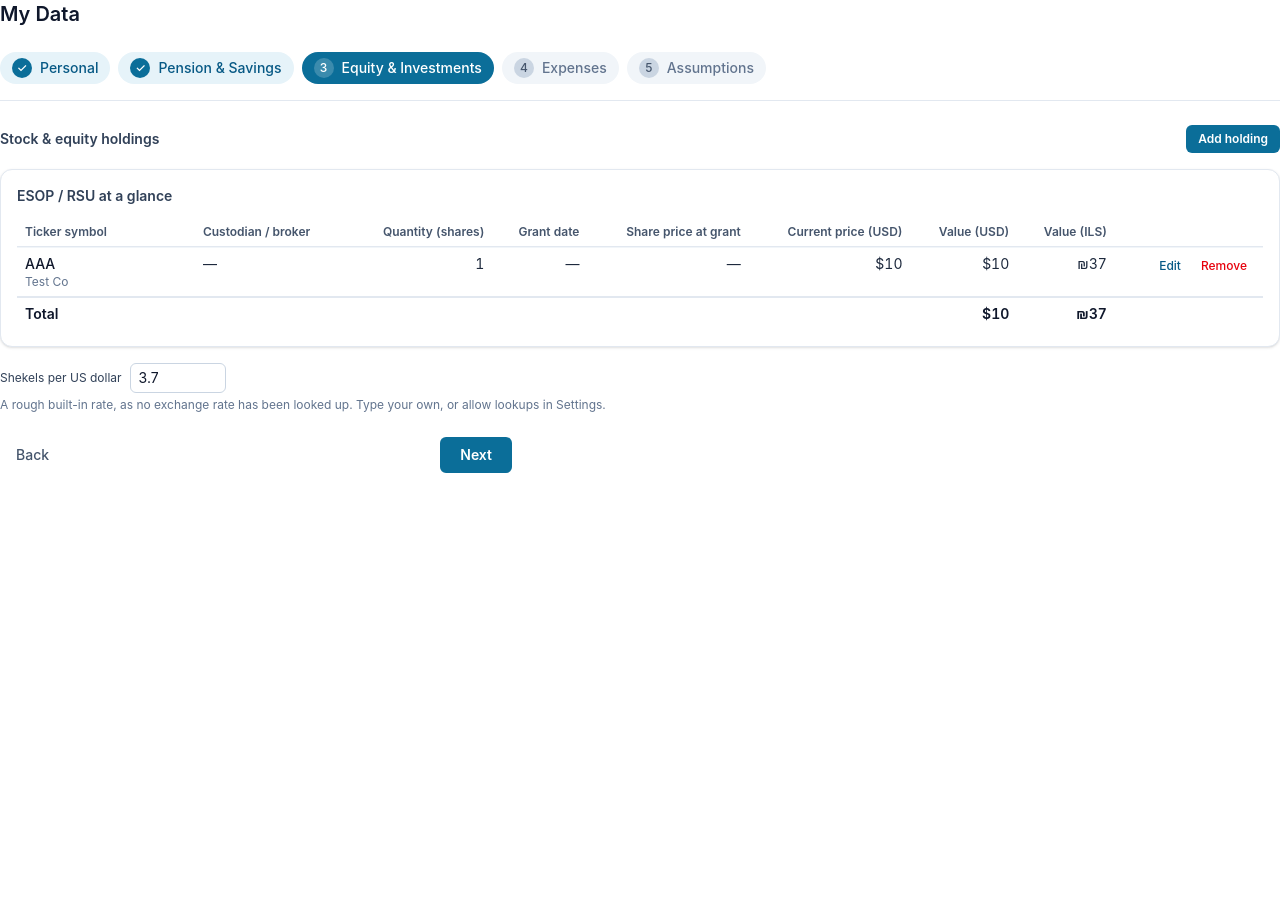
My Data summary tables — Equity & Investments › keeps the field legend out of the page and folded inside the holding form
Expected: the table named "ESOP / RSU at a glance" is shown, [17,218,1263,330]
Expected: the element "Which fields matter?" is not shown
Click the button "Edit" at (1170, 266), box [1151,254,1189,278]
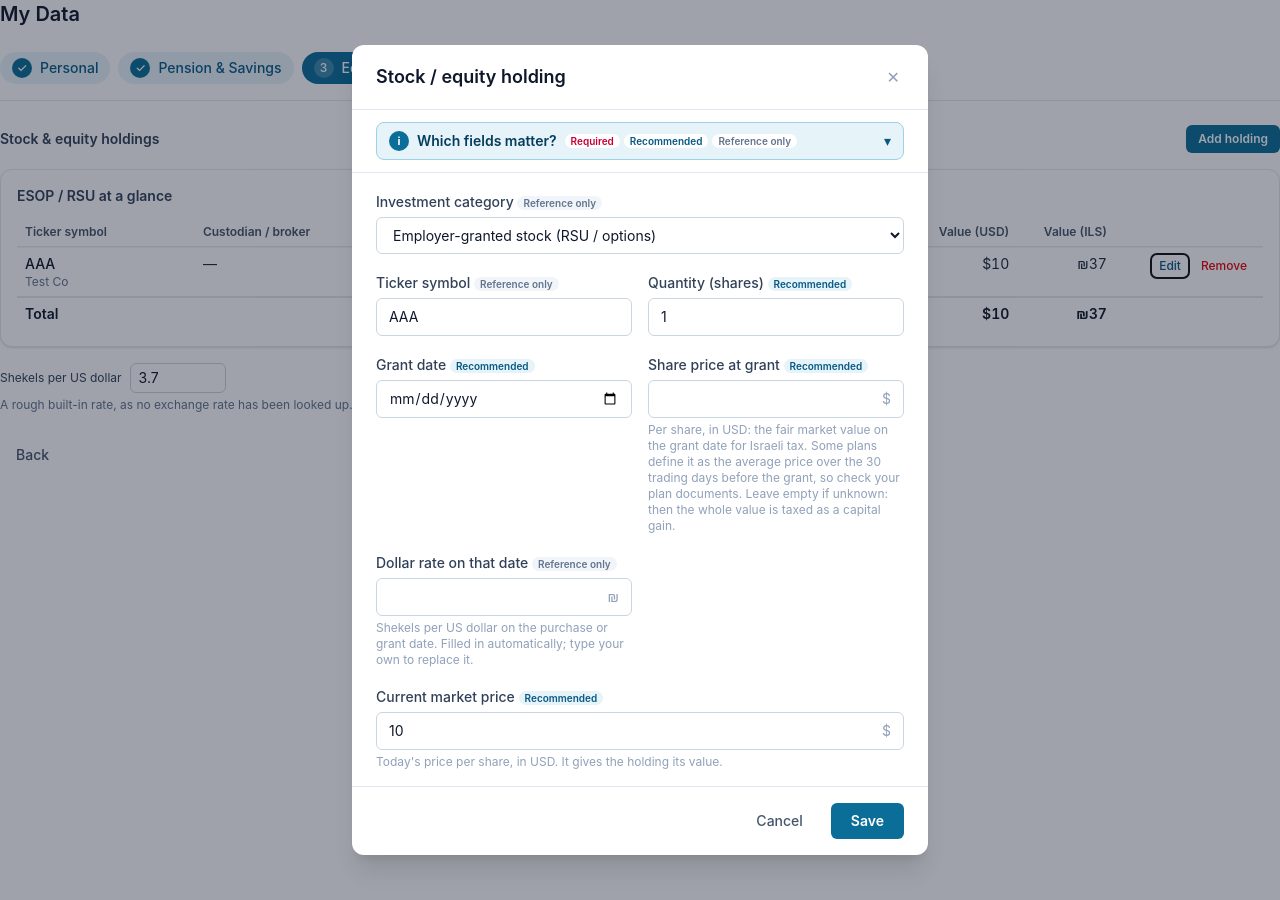
Expected: the element labelled "Ticker symbol" is shown, [352,173,928,786]
Click the button "i Which fields matter? Required Recommended Reference only ▾" at (640, 141), box [377,123,903,159]
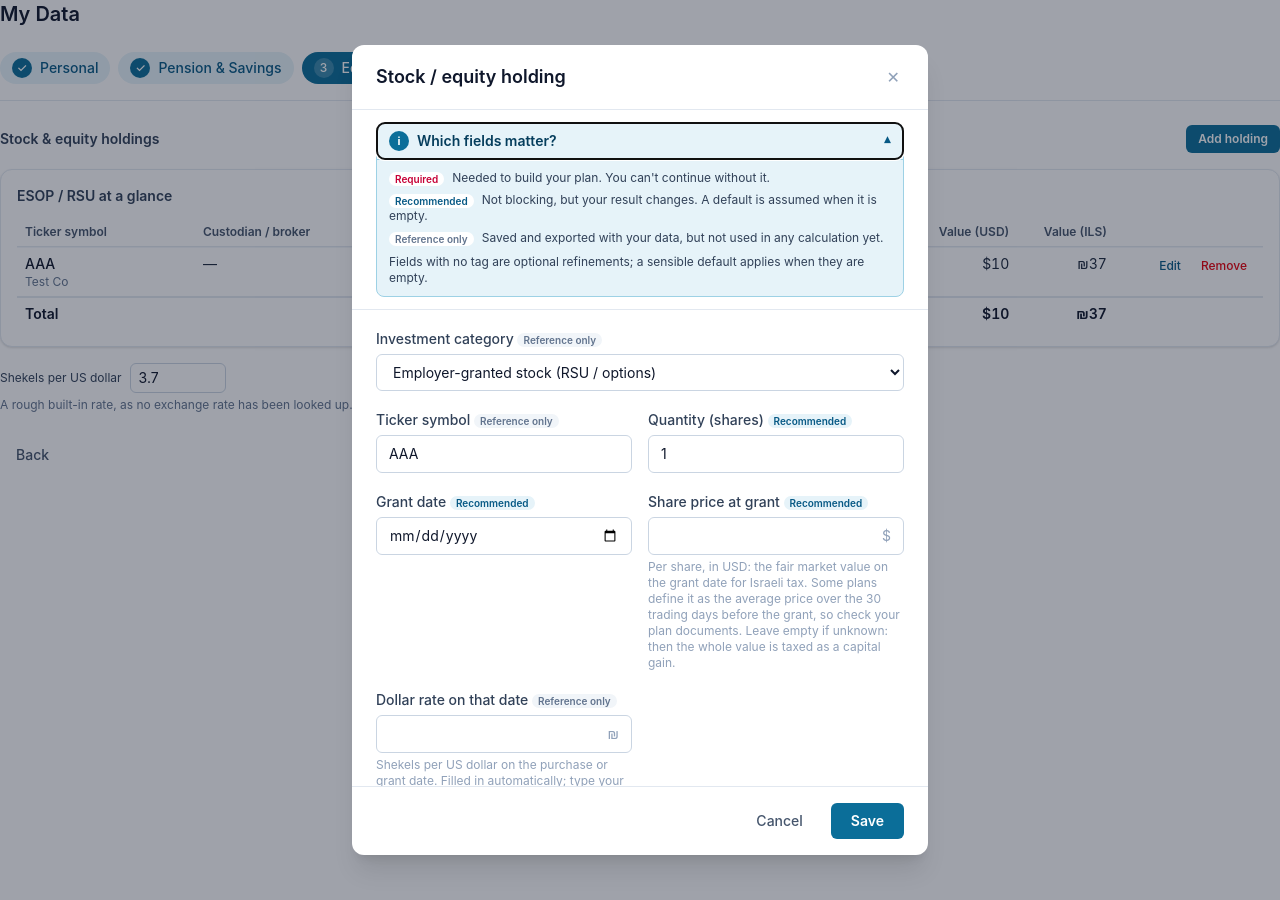
Expected: the list item "Needed to build your plan" is shown, [452,170,770,185]
